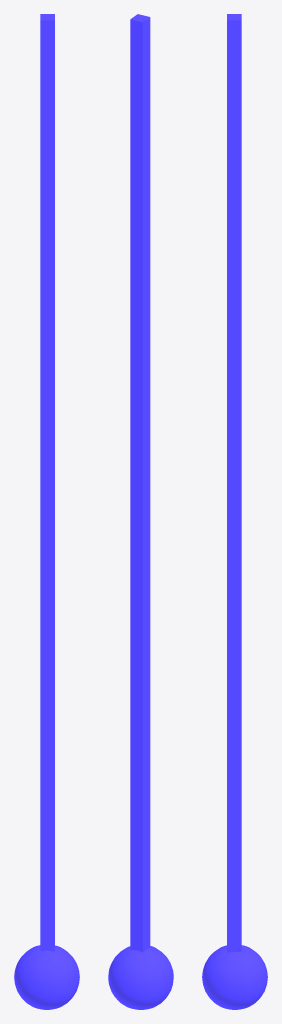
Rendered from NewWebMenuModuliListner4.gltf.
3 views of the same model, side by side, from view 1: azimuth 90°, elevation 25°; view 2: azimuth 150°, elevation 25°; view 3: azimuth 270°, elevation 25° (orthographic).
Parts seen in each view (by area): view 1: ListnerModuli; view 2: ListnerModuli; view 3: ListnerModuli.
Boxes of the visible parts, x1,y1,x2,y2 form: ListnerModuli: (14, 14, 79, 1009); ListnerModuli: (108, 14, 173, 1009); ListnerModuli: (202, 14, 267, 1009).
Bounding box in the file's own units: 0.0421 × 0.6987 × 0.0421.
